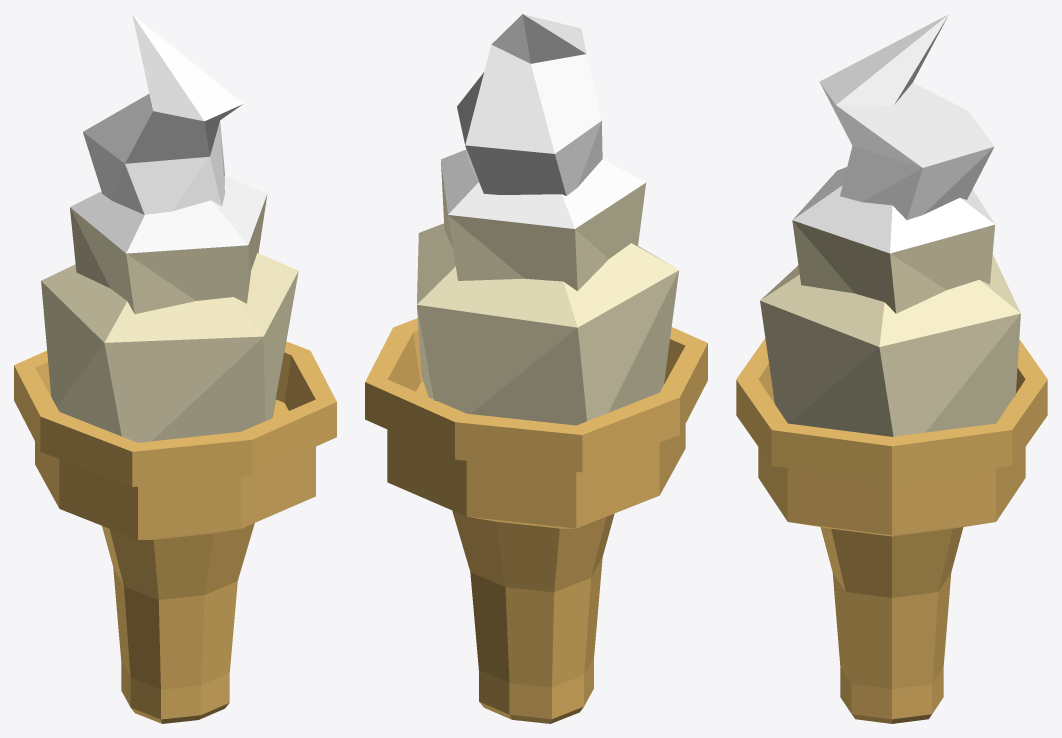
File: Vanilla Icecream Cone.fbx
3 renders of one model, left to right at view 1: azimuth 30°, elevation 25°; view 2: azimuth 150°, elevation 25°; view 3: azimuth 270°, elevation 25°, orthographic. The views are drawn at different scales.
Visible parts, largest first — view 1: Vanilla Icecream Cone; view 2: Vanilla Icecream Cone; view 3: Vanilla Icecream Cone.
Part boxes in pixels (box(x1,y1,x2,y2)): Vanilla Icecream Cone: box(14, 14, 336, 723); Vanilla Icecream Cone: box(365, 14, 707, 723); Vanilla Icecream Cone: box(736, 14, 1047, 723).
Bounding box in the file's own units: 5.67 × 13.5 × 5.59.
